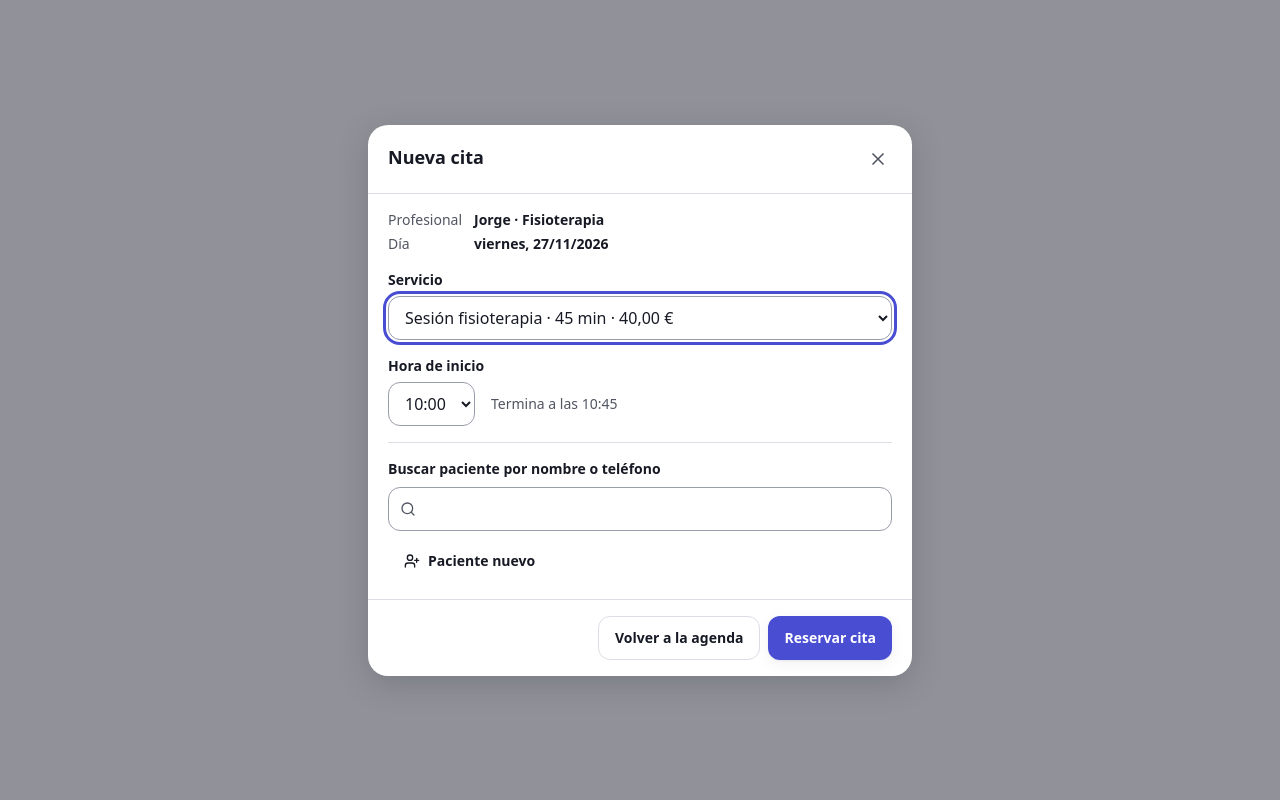
DialogoAltaCita › [001][FR-019] Nombre y Teléfono son obligatorios y Email es opcional
Click the button "Paciente nuevo".
click(470, 560)  # box 388,538 -> 551,582
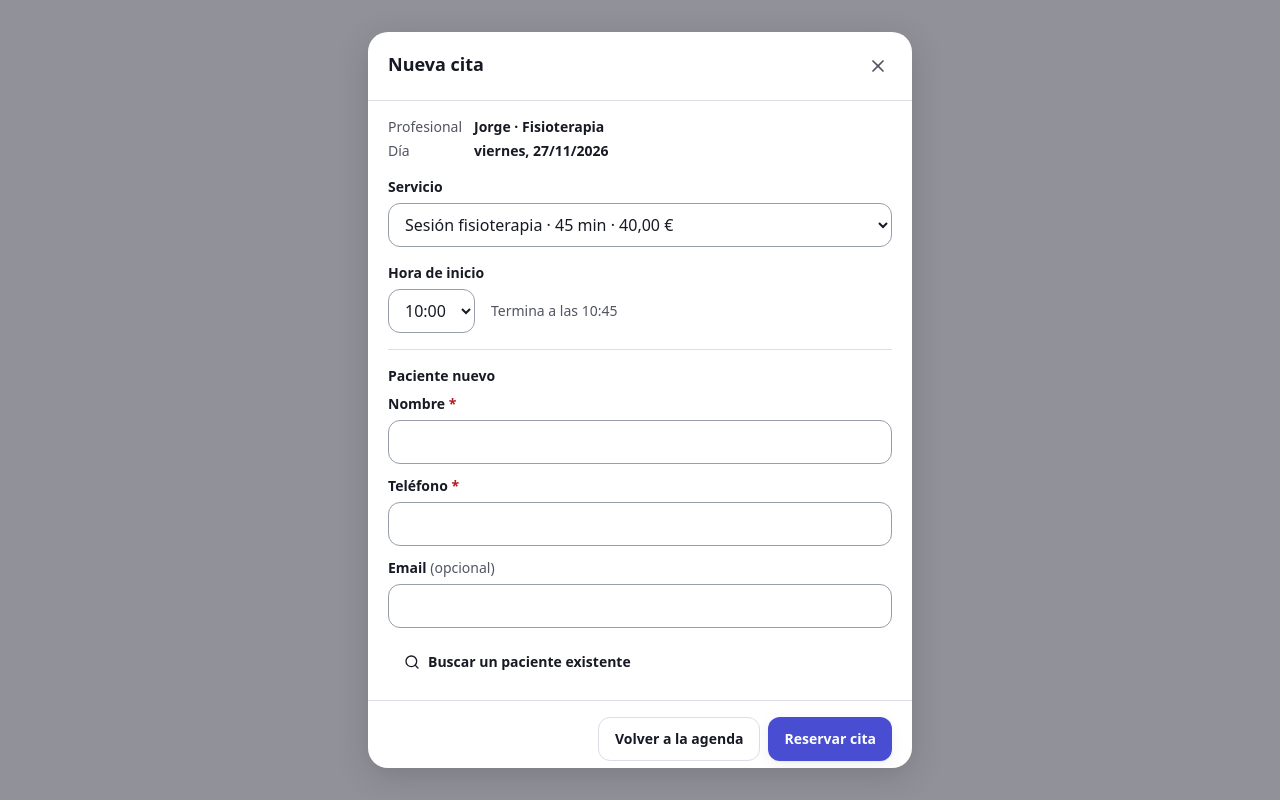
Now the text "(opcional)" is shown, box 427,558 -> 495,577
